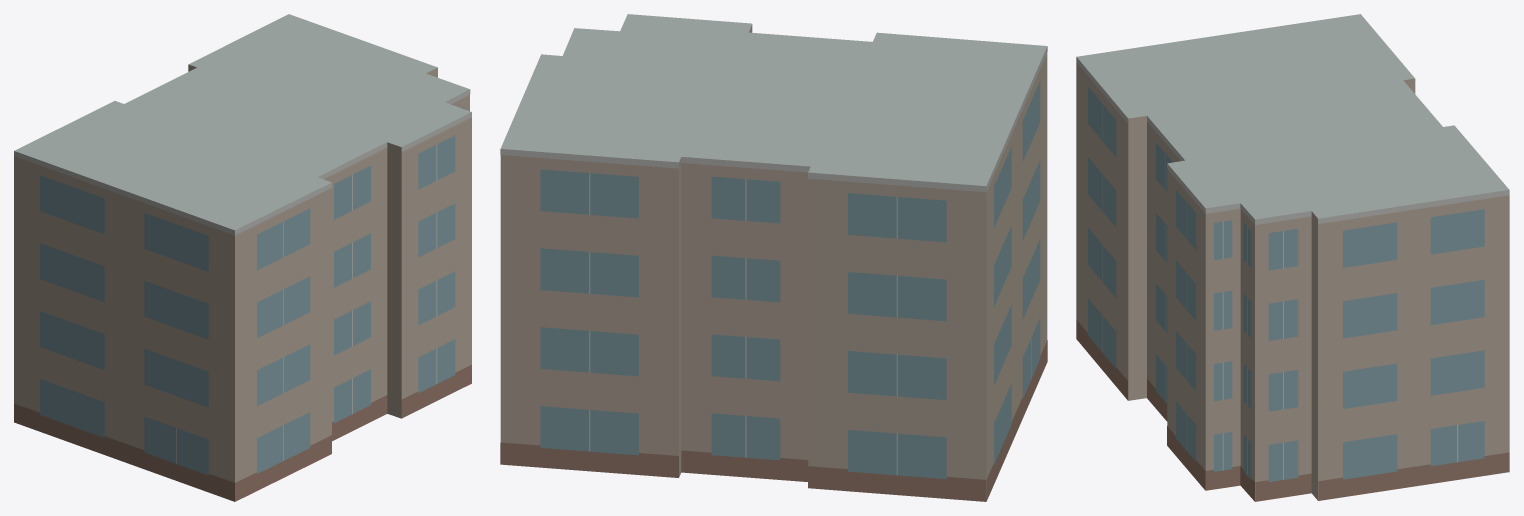
Rendered from survey-upis-32839621.glb.
3 renders of one model, left to right at view 1: azimuth 30°, elevation 25°; view 2: azimuth 150°, elevation 25°; view 3: azimuth 270°, elevation 25°, orthographic. The views are drawn at different scales.
Visible parts, largest first — view 1: survey-upis-32839621.tmp; view 2: survey-upis-32839621.tmp; view 3: survey-upis-32839621.tmp.
Boxes of the visible parts, box(x1,y1,x2,y2) form: survey-upis-32839621.tmp: box(14, 14, 471, 501); survey-upis-32839621.tmp: box(500, 14, 1047, 501); survey-upis-32839621.tmp: box(1076, 14, 1509, 501).
Size of the model in its own units: 19.78 by 12.66 by 17.61.
